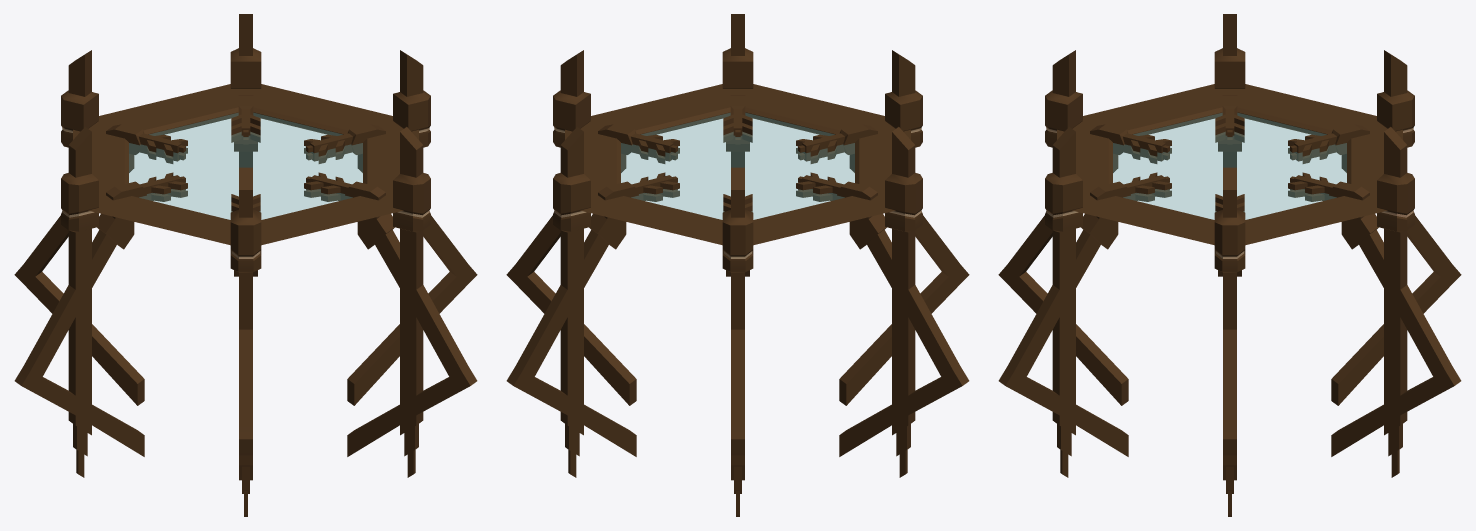
Rendered from Base Cap.fbx.
3 views of the same model, side by side, from view 1: azimuth 30°, elevation 25°; view 2: azimuth 150°, elevation 25°; view 3: azimuth 270°, elevation 25° (orthographic).
Visible parts, largest first — view 1: Base_Cap; view 2: Base_Cap; view 3: Base_Cap.
Part boxes in pixels (box(x1,y1,x2,y2)): Base_Cap: box(14, 14, 477, 516); Base_Cap: box(506, 14, 969, 516); Base_Cap: box(998, 14, 1461, 516).
Size of the model in its own units: 42.09 by 30.57 by 37.
